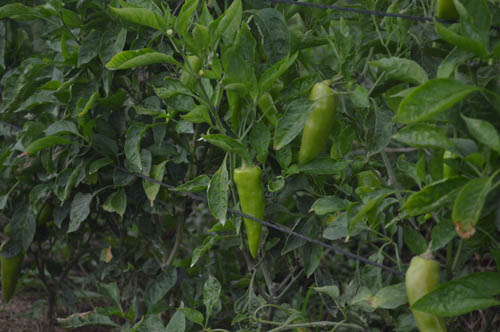ChiliPepper: (299, 80, 341, 159), (233, 168, 263, 257), (407, 256, 441, 329)
